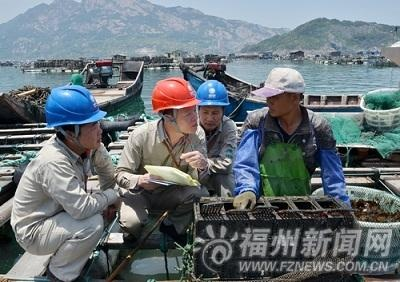blue: (44, 85, 102, 151), (193, 78, 228, 128)
red: (152, 74, 197, 134)
white: (261, 65, 308, 120)
